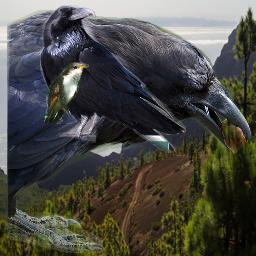Crow: (7, 10, 253, 253), (40, 5, 186, 153)
Cuckoo: (44, 62, 89, 124)
